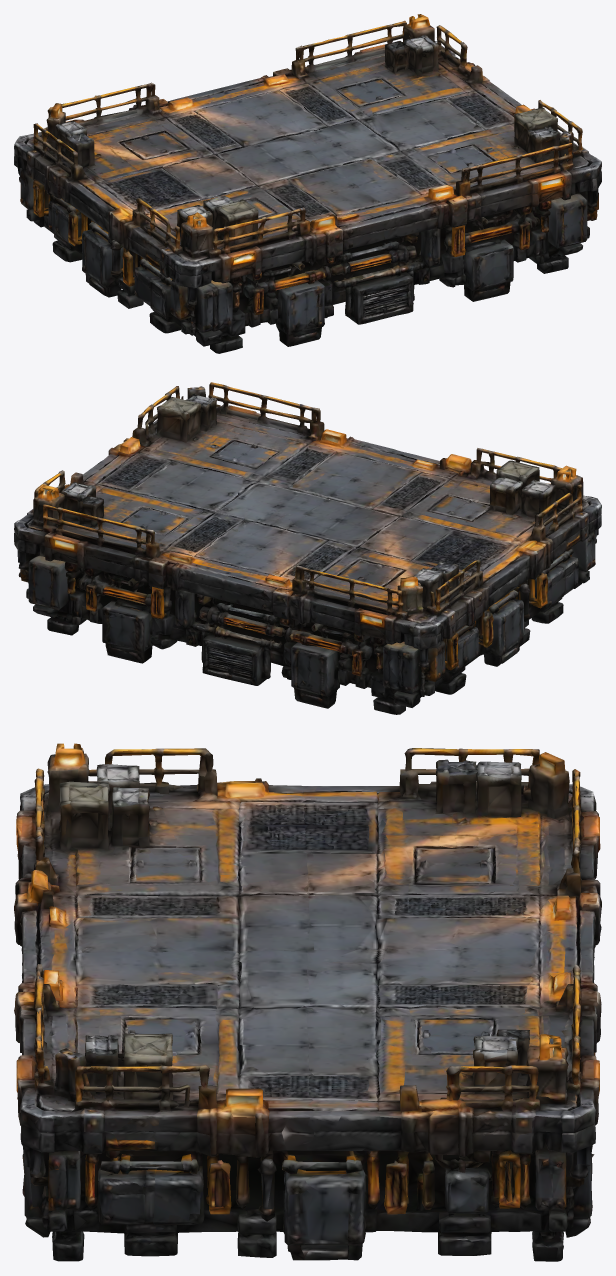
File: deck.glb
The picture shows the model from 3 angles, top to bottom: view 1: azimuth 30°, elevation 25°; view 2: azimuth 150°, elevation 25°; view 3: azimuth 270°, elevation 25°; orthographic projection. The views are drawn at different scales.
Visible parts, largest first — view 1: tripo_node_f2931df4-0c2a-48dd-9778-843b9cdfb18a; view 2: tripo_node_f2931df4-0c2a-48dd-9778-843b9cdfb18a; view 3: tripo_node_f2931df4-0c2a-48dd-9778-843b9cdfb18a.
Boxes of the visible parts, left/top/right/bottom form: tripo_node_f2931df4-0c2a-48dd-9778-843b9cdfb18a: left=14, top=14, right=601, bottom=353; tripo_node_f2931df4-0c2a-48dd-9778-843b9cdfb18a: left=14, top=382, right=601, bottom=714; tripo_node_f2931df4-0c2a-48dd-9778-843b9cdfb18a: left=14, top=743, right=601, bottom=1261.
Size of the model in its own units: 0.9801 by 0.3176 by 0.7208.
1 material, 1 textured.
